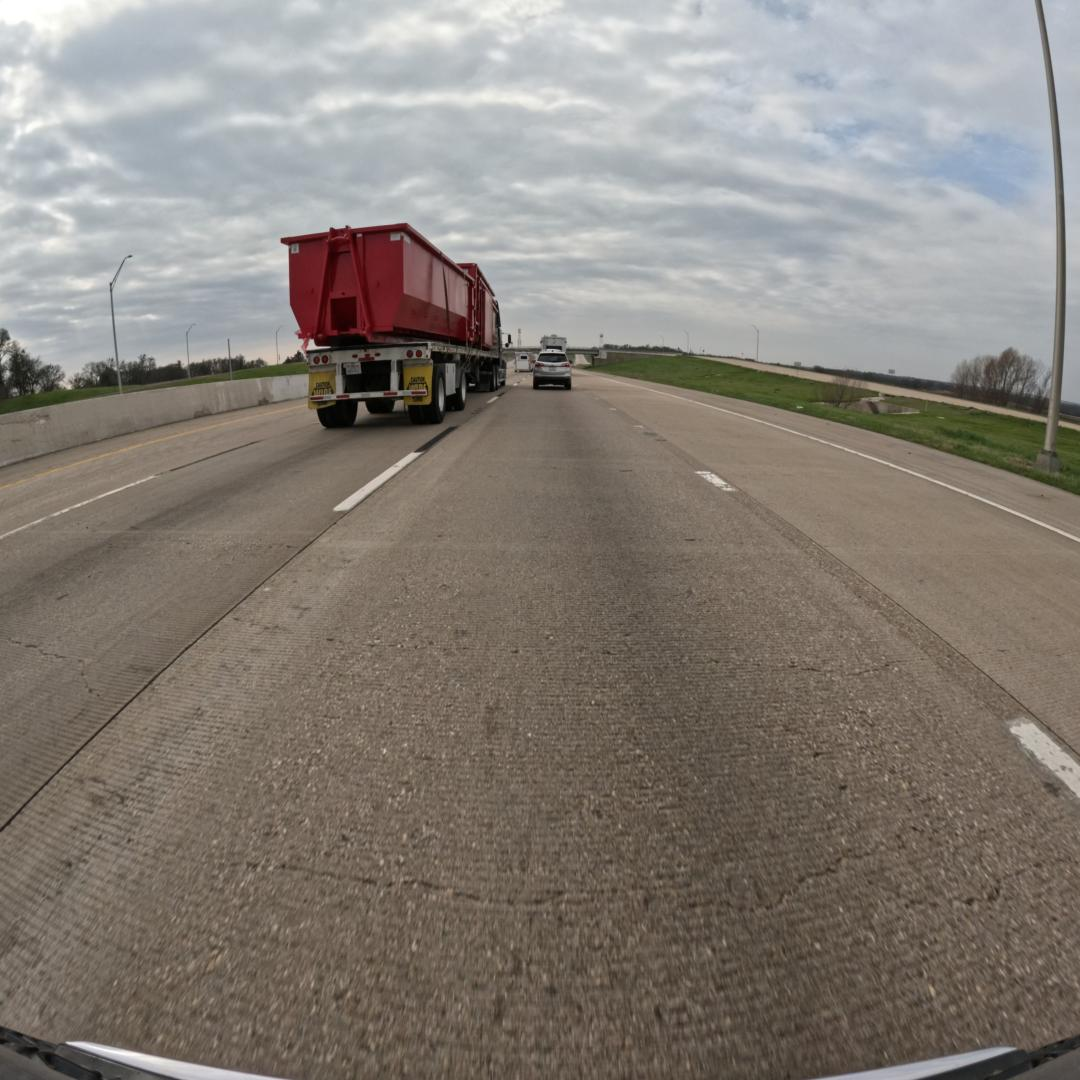lane0: (0, 386, 1080, 1077)
lane1: (0, 397, 484, 829)
